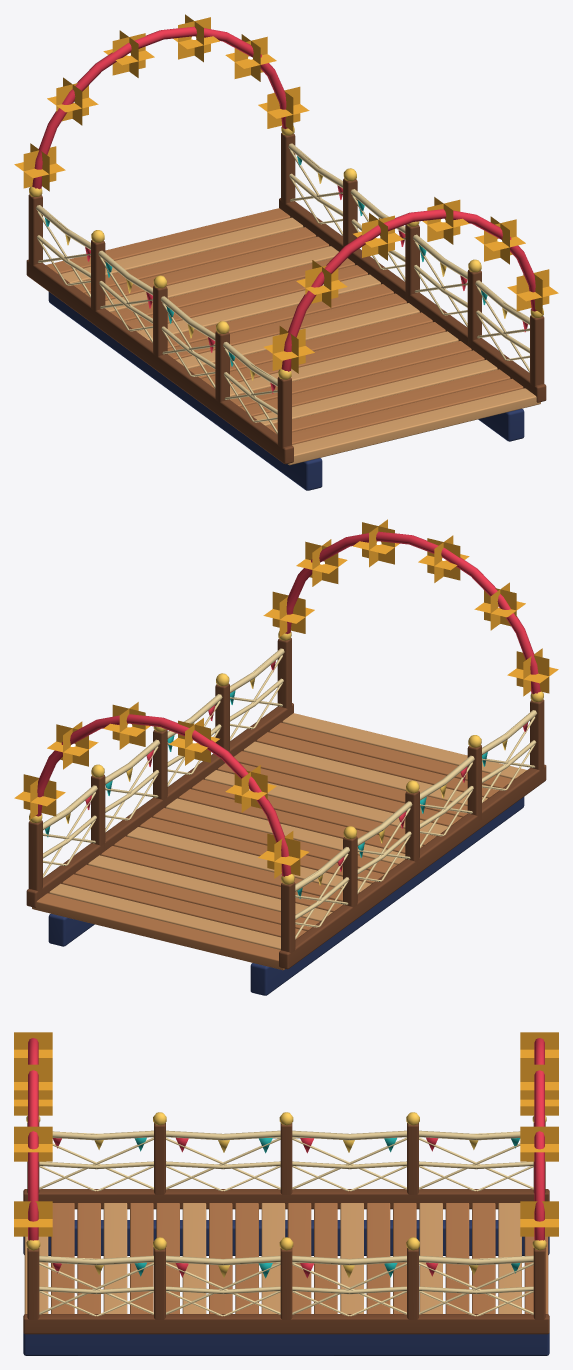
Rendered from sky_bridge.glb.
3 views of the same model, one above another, from view 1: azimuth 30°, elevation 25°; view 2: azimuth 150°, elevation 25°; view 3: azimuth 270°, elevation 25° (orthographic).
Visible parts, largest first — view 1: Bridge; view 2: Bridge; view 3: Bridge.
Boxes of the visible parts, x1=… form: Bridge: x1=14, y1=14, x2=558, y2=490; Bridge: x1=14, y1=519, x2=558, y2=995; Bridge: x1=14, y1=1032, x2=558, y2=1355.
Size of the model in its own units: 4.93 by 4.27 by 8.29.
